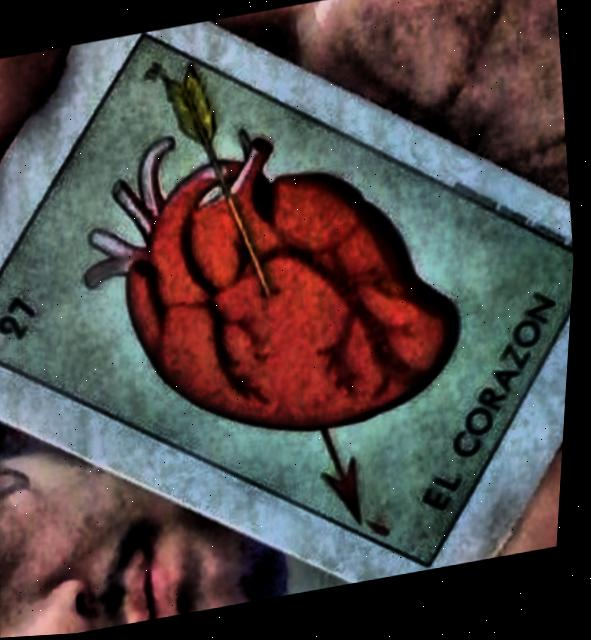El Corazon: (0, 36, 577, 571)
